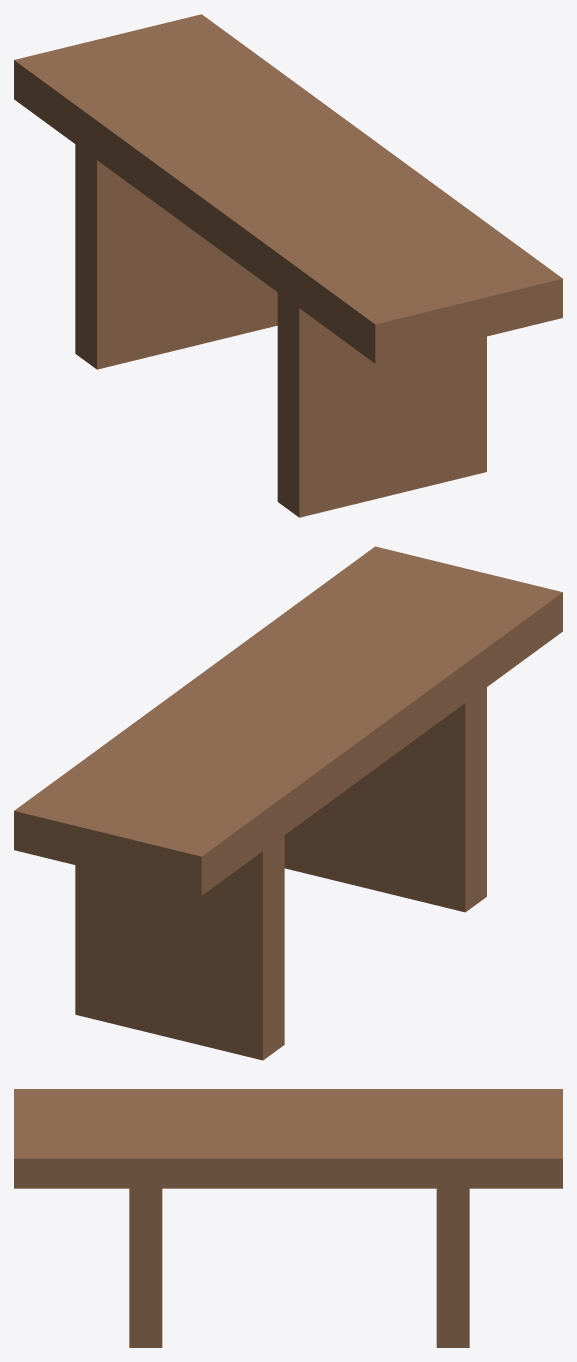
Rendered from BancaPlaza02.fbx.
3 renders of one model, top to bottom at view 1: azimuth 30°, elevation 25°; view 2: azimuth 150°, elevation 25°; view 3: azimuth 270°, elevation 25°, orthographic. The views are drawn at different scales.
Visible parts, largest first — view 1: Banca02; view 2: Banca02; view 3: Banca02.
Boxes of the visible parts, left/top/right/bottom form: Banca02: left=14, top=14, right=562, bottom=517; Banca02: left=14, top=546, right=562, bottom=1060; Banca02: left=14, top=1089, right=562, bottom=1347.
Size of the model in its own units: 37.5 by 47.5 by 125.
